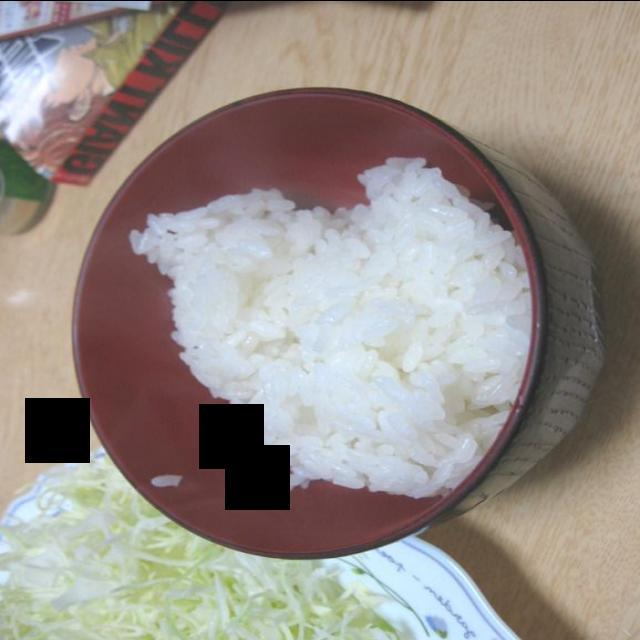rice: (123, 155, 533, 497)
